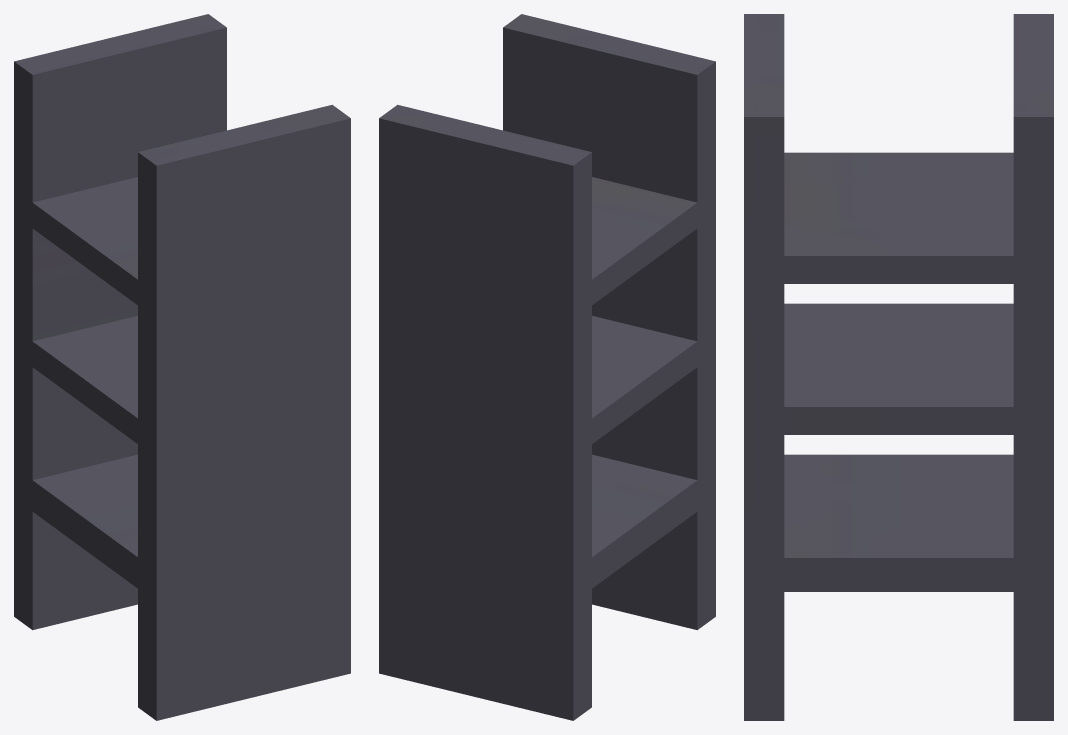
File: bookshelf.fbx
3 renders of one model, left to right at view 1: azimuth 30°, elevation 25°; view 2: azimuth 150°, elevation 25°; view 3: azimuth 270°, elevation 25°, orthographic. The views are drawn at different scales.
Visible parts, largest first — view 1: bookshelf; view 2: bookshelf; view 3: bookshelf.
Part boxes in pixels (left/top/right/bottom): bookshelf: left=14, top=14, right=350, bottom=720; bookshelf: left=379, top=14, right=715, bottom=720; bookshelf: left=744, top=14, right=1053, bottom=720.
Size of the model in its own units: 55.81 by 152 by 70.85.
